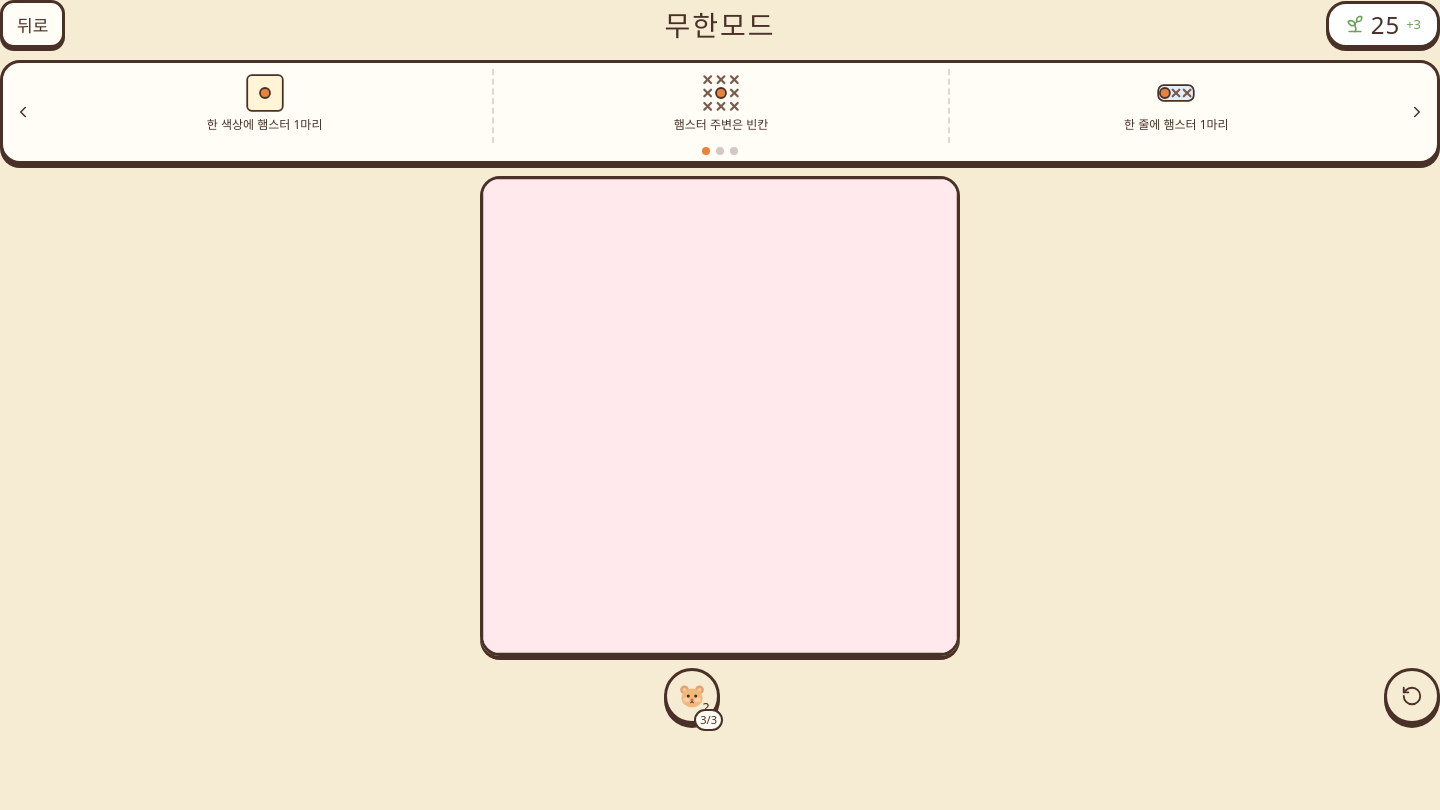
EndlessScene & EndlessOverlayHost integration › 퍼즐 완료 시 EndlessClearOverlayHost를 통해 EndlessClearDialog가 렌더링된다
Step 1. Double-click the button named "빈칸" → (720, 416), box [483,179,957,653]
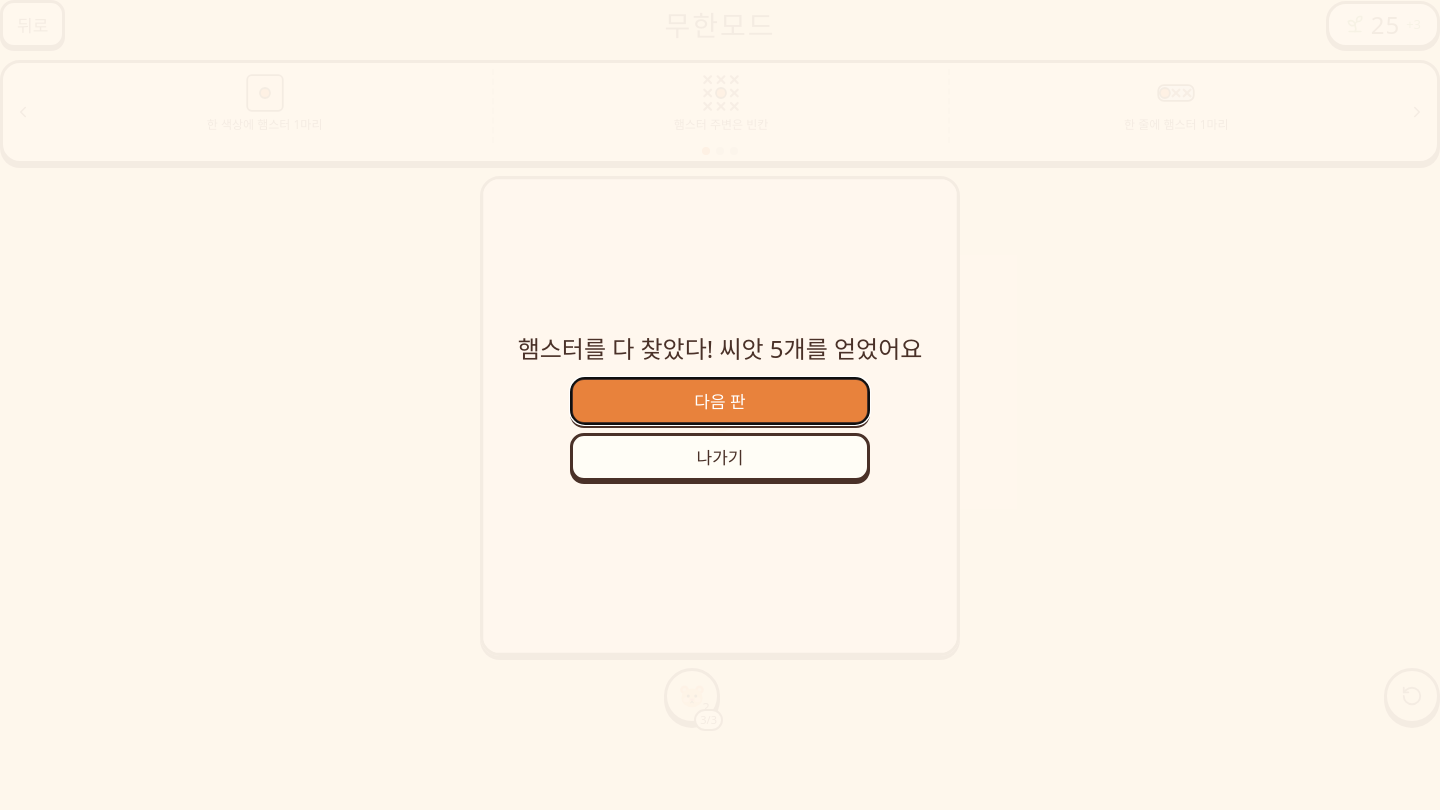
Result: the dialog named "클리어" is shown
Result: the text "햄스터를 다 찾았다! 씨앗 5개를 얻었어요" is shown at [518,330,922,364]
